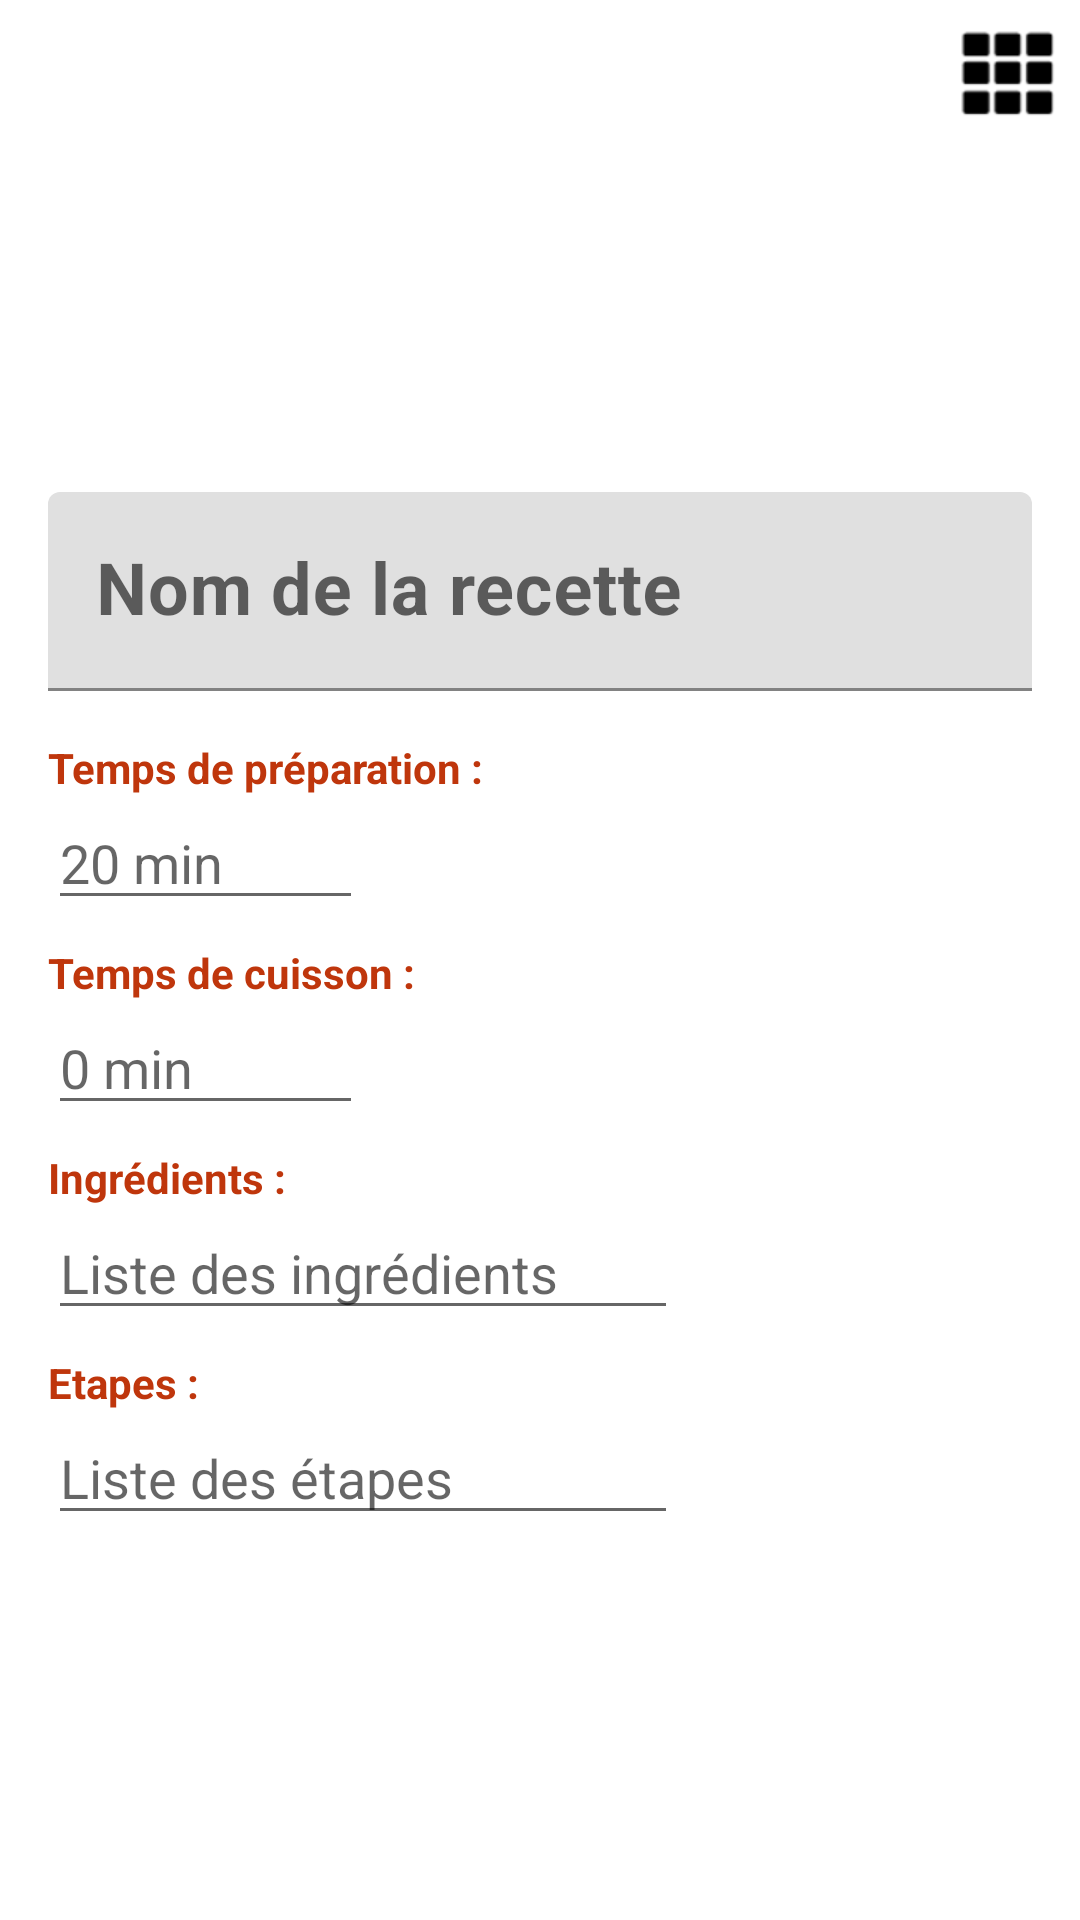

Icons on this 1080 x 1920 Android screen, each with its box as box(x1, y1, x2, y2):
dialer: box(961, 31, 1054, 115)
